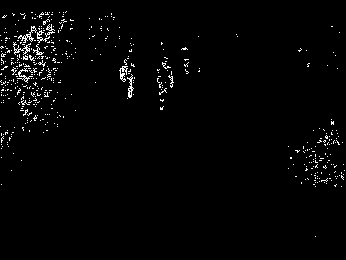person: (149, 51, 176, 114)
